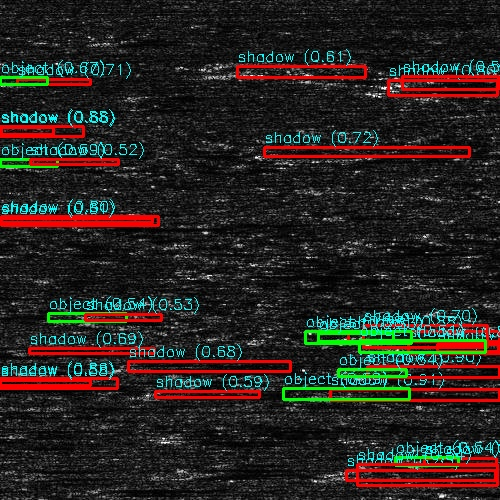rock: (321, 82, 446, 99), (267, 387, 392, 404), (304, 470, 387, 483), (131, 387, 214, 398), (326, 333, 399, 342), (406, 345, 469, 352), (10, 159, 63, 164), (119, 93, 160, 98), (406, 459, 437, 462), (0, 219, 9, 224)
shadow: (330, 387, 500, 404), (384, 82, 500, 99), (346, 470, 466, 483), (0, 219, 269, 224), (173, 387, 286, 398), (363, 333, 500, 342), (0, 121, 64, 140), (0, 379, 124, 388), (0, 347, 44, 360), (438, 345, 500, 352), (37, 159, 114, 164), (422, 459, 500, 462), (140, 93, 181, 98)
